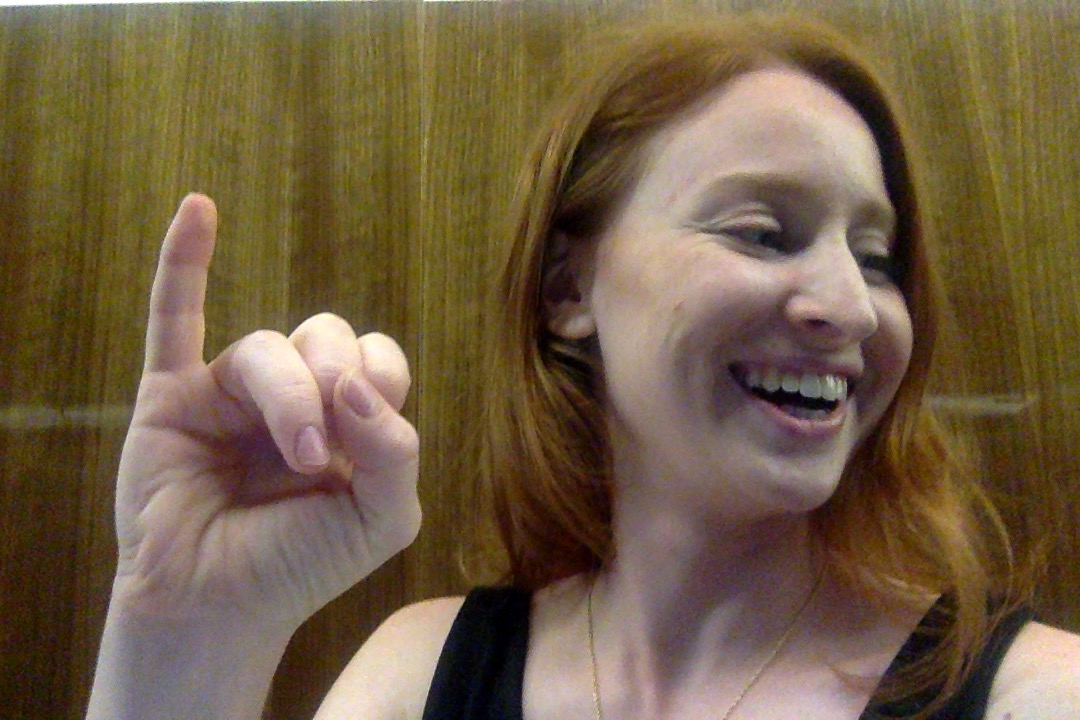i: (109, 182, 431, 606)
